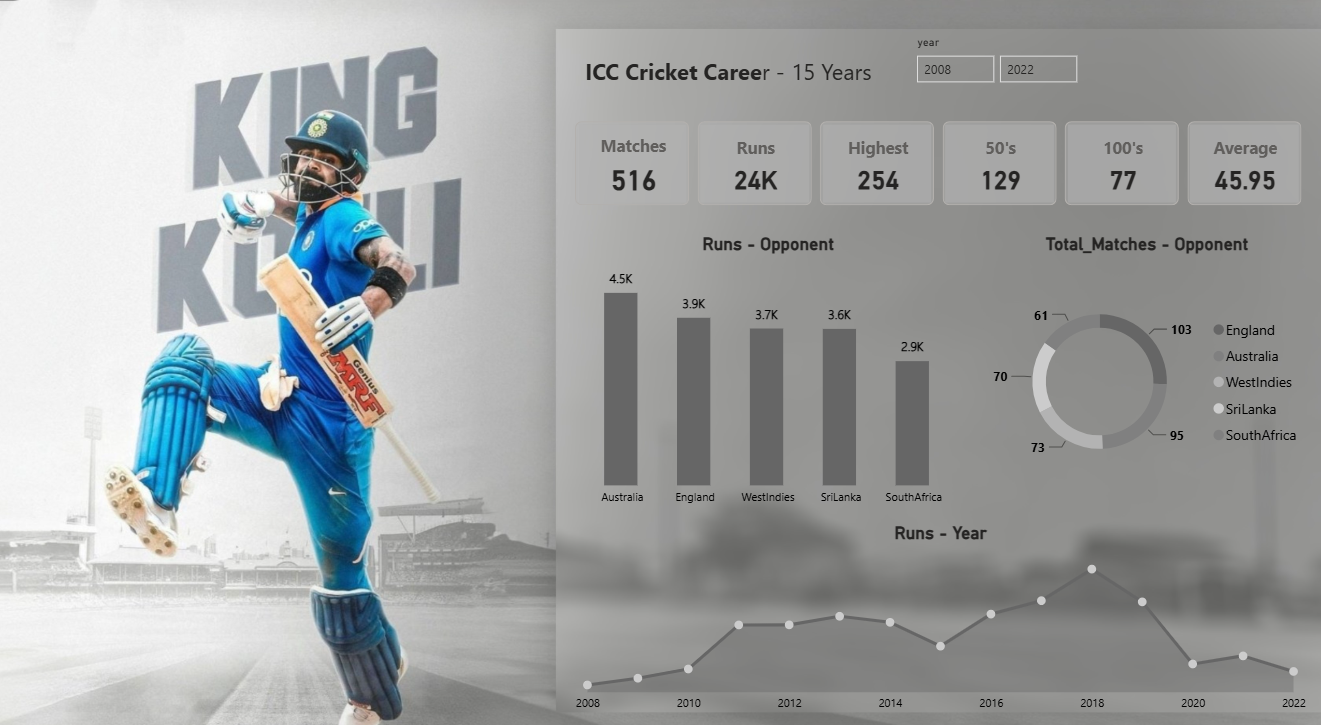

What the dashboard file says about the page in this screenshot:
{"tool":"powerbi","page":{"name":"DashBoard","canvas":[1280,720],"ordinal":0},"visuals":[{"type":"cardVisual","fields":{"Data":["Measures_Table.Total_Matches","Measures_Table.Runs","Measures_Table.HighestScore","Measures_Table.50s","Measures_Table.100s","Avg(Virat_Kohli.runs)"]},"box":[554.3,111.5,714.6,91.8],"z":0},{"type":"columnChart","title":"Runs - Opponent","fields":{"Category":["Virat_Kohli.opponent"],"Y":["Measures_Table.Runs"]},"box":[554.3,225.4,382.3,270.7],"z":1000},{"type":"donutChart","title":"Total_Matches - Opponent","fields":{"Category":["Virat_Kohli.opponent"],"Y":["Measures_Table.Total_Matches"]},"box":[951.6,225.4,317.2,270.7],"z":2000},{"type":"stackedAreaChart","title":"Runs - Year","fields":{"Category":["Calender.year"],"Y":["Measures_Table.Runs"]},"box":[554.3,503.1,714.6,191.7],"z":3000},{"type":"slicer","fields":{"Values":["Calender.year"]},"box":[876.1,29,392.7,82.5],"z":4000},{"type":"textbox","box":[563.5,50,233.6,41.8],"z":5000},{"type":"textbox","box":[598.4,70.9,60.4,40.7],"z":6000},{"type":"textbox","box":[640.2,70.9,105.7,29],"z":7000},{"type":"textbox","box":[762.2,50,174.3,50],"z":8000}]}

Visuals, with their boxes in screenshot pixels (x1, y1, x2, y2), scaled from the page's 1280x720 canvas onto the 1321x725 screenshot:
cardVisual - Measures_Table.Total_Matches x Measures_Table.Runs: {"x1": 572, "y1": 112, "x2": 1310, "y2": 205}
"Runs - Opponent" columnChart: {"x1": 572, "y1": 227, "x2": 967, "y2": 500}
"Total_Matches - Opponent" donutChart: {"x1": 982, "y1": 227, "x2": 1309, "y2": 500}
"Runs - Year" stackedAreaChart: {"x1": 572, "y1": 507, "x2": 1310, "y2": 700}
slicer - Calender.year: {"x1": 904, "y1": 29, "x2": 1309, "y2": 112}
textbox: {"x1": 582, "y1": 50, "x2": 823, "y2": 92}
textbox: {"x1": 618, "y1": 71, "x2": 680, "y2": 112}
textbox: {"x1": 661, "y1": 71, "x2": 770, "y2": 101}
textbox: {"x1": 787, "y1": 50, "x2": 966, "y2": 101}
